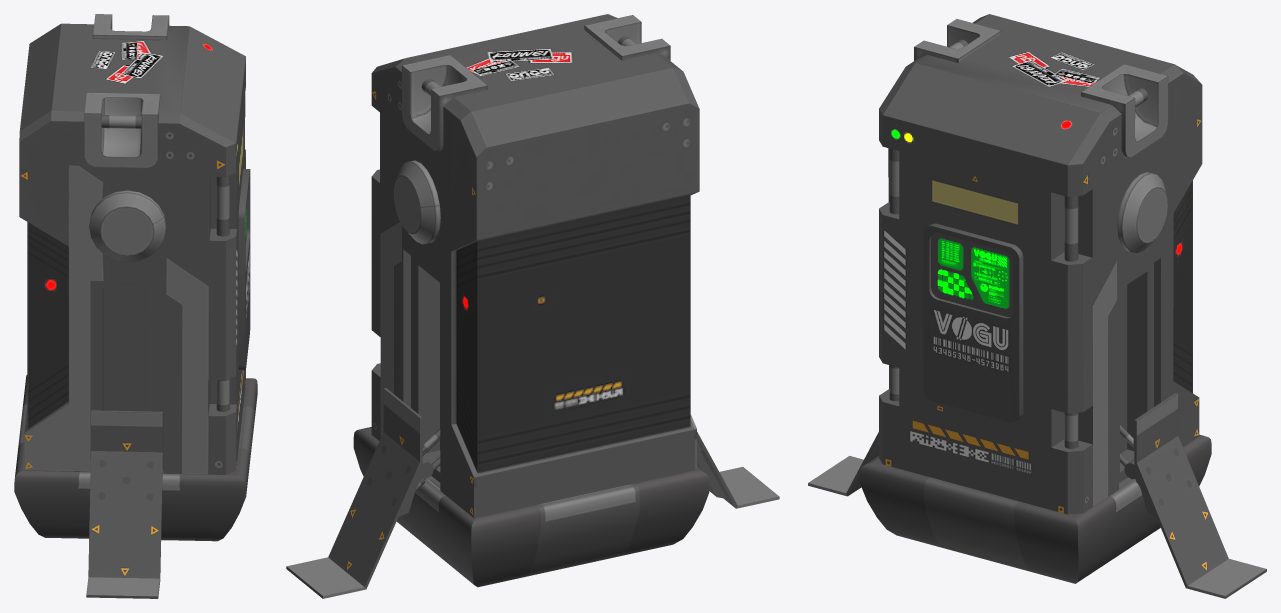
Rendered from vogu_pod.glb.
The picture shows the model from 3 angles, left to right: view 1: azimuth 30°, elevation 25°; view 2: azimuth 150°, elevation 25°; view 3: azimuth 270°, elevation 25°; orthographic projection. The views are drawn at different scales.
Parts seen in each view (by area): view 1: Vogu_DropPod; view 2: Vogu_DropPod; view 3: Vogu_DropPod.
Boxes of the visible parts, bbox=[...] form: Vogu_DropPod: bbox=[14, 14, 257, 598]; Vogu_DropPod: bbox=[286, 14, 779, 598]; Vogu_DropPod: bbox=[808, 14, 1266, 598].
Size of what is drawn, in the model's own units: 1.87 by 2.76 by 2.46.
Materials: 1 (1 with a texture image).
